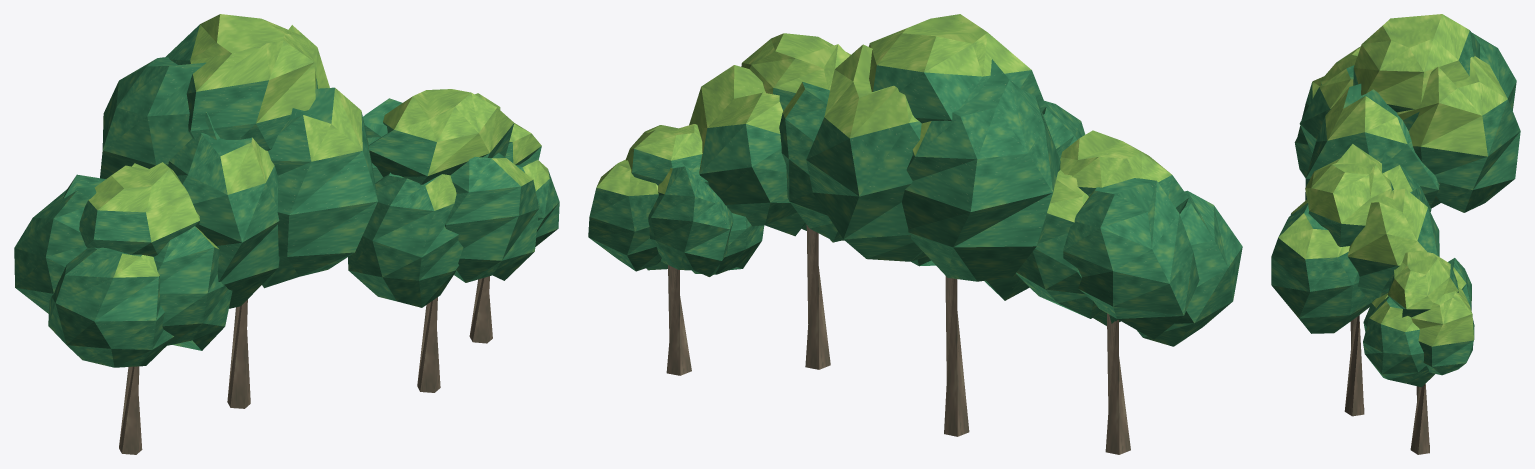
Rendered from DistantGrove.fbx.
3 renders of one model, left to right at view 1: azimuth 30°, elevation 25°; view 2: azimuth 150°, elevation 25°; view 3: azimuth 270°, elevation 25°, orthographic. The views are drawn at different scales.
Parts seen in each view (by area): view 1: DistantGrove; view 2: DistantGrove; view 3: DistantGrove.
Boxes of the visible parts, box(x1,y1,x2,y2) form: DistantGrove: box(14, 14, 559, 454); DistantGrove: box(588, 14, 1242, 454); DistantGrove: box(1271, 14, 1520, 454).
Bounding box in the file's own units: 1240 × 842 × 576.
1 material, 1 textured.
